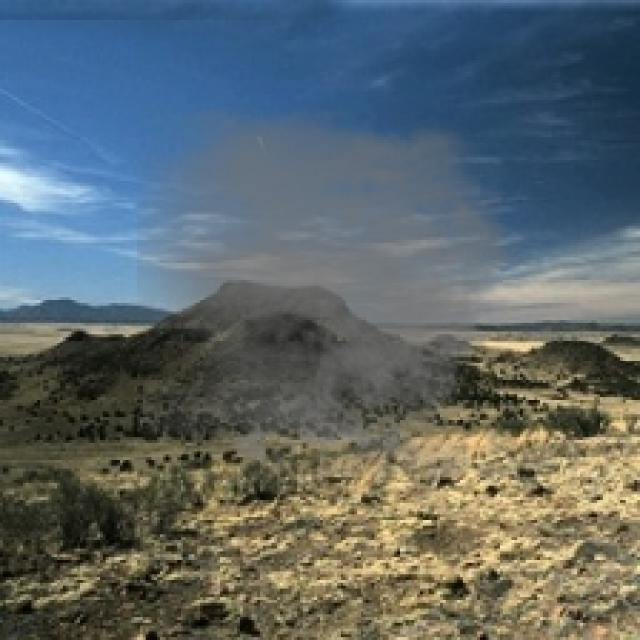Smoke: (137, 106, 534, 477)
